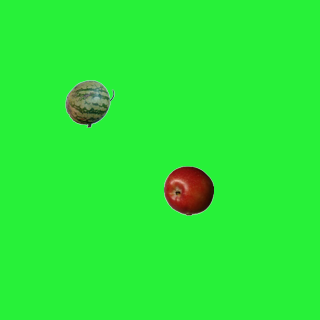Apple Braeburn: (163, 165, 213, 215)
Watermelon: (64, 78, 114, 128)
